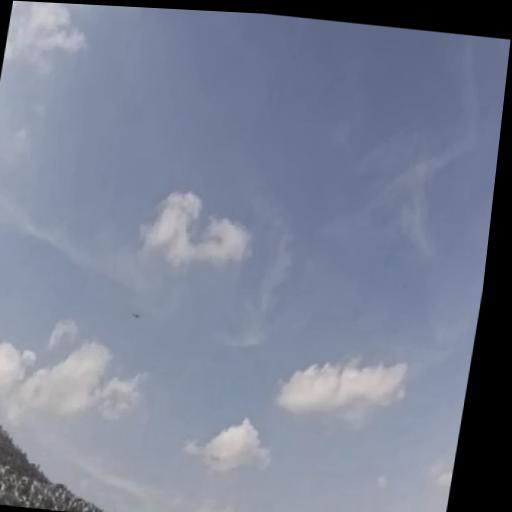drones: (124, 307, 144, 327)
